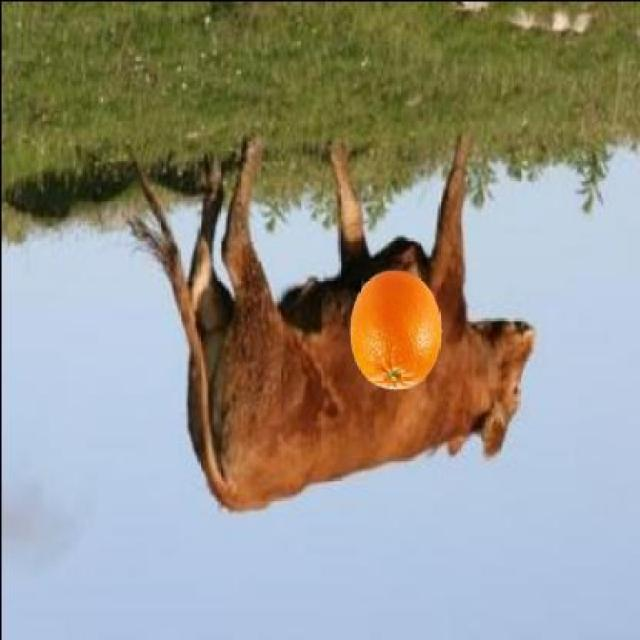Orange: (348, 268, 443, 390)
